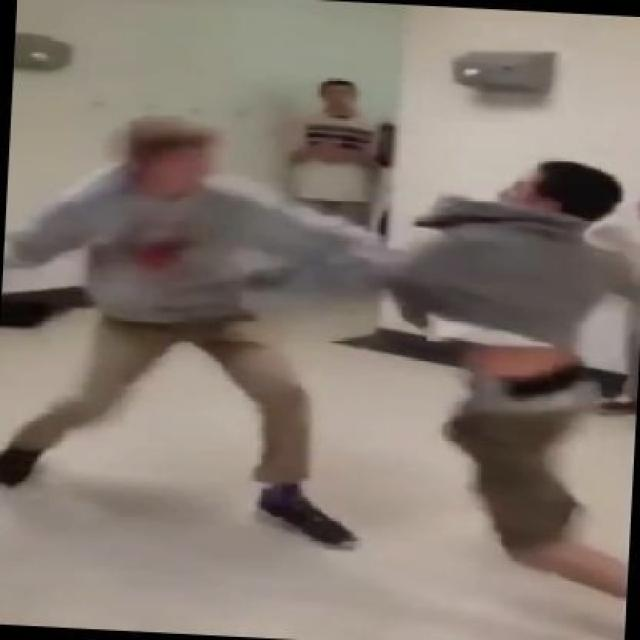fight: (0, 102, 638, 604)
